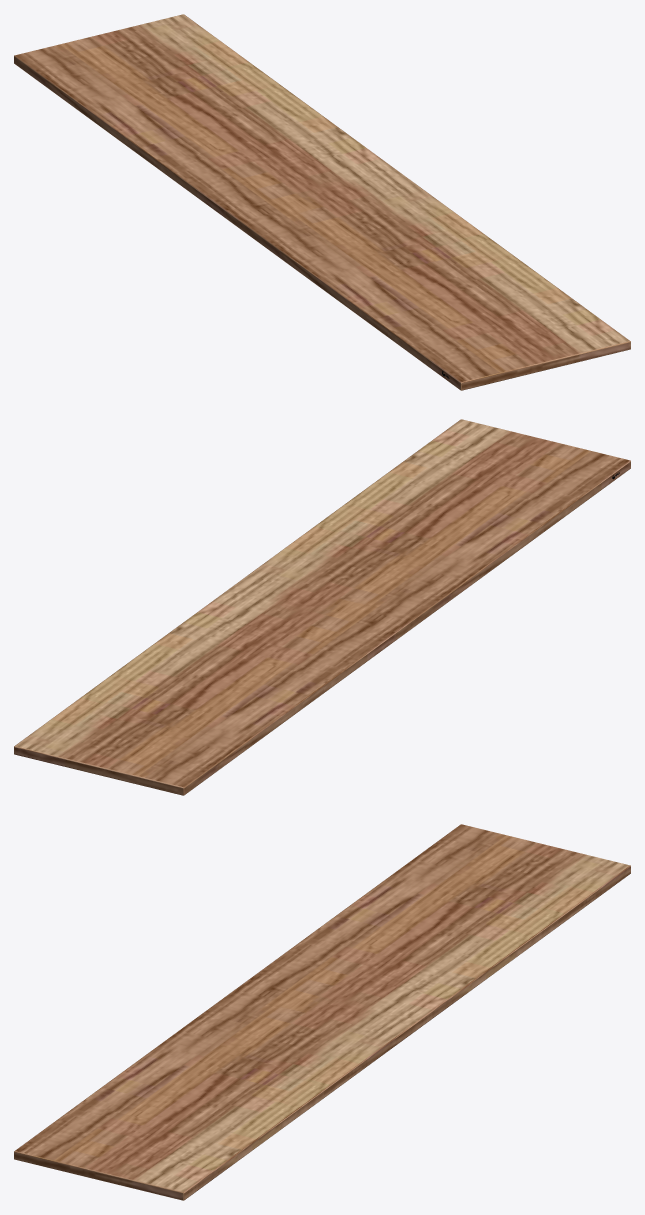
File: cABINET_COVER_PLATE_180_FINALA.fbx
The picture shows the model from 3 angles, top to bottom: view 1: azimuth 30°, elevation 25°; view 2: azimuth 150°, elevation 25°; view 3: azimuth 330°, elevation 25°; orthographic projection.
Visible parts, largest first — view 1: blat; view 2: blat; view 3: blat.
Part boxes in pixels (<box>): blat: <box>14,14,630,390</box>; blat: <box>14,419,630,795</box>; blat: <box>14,824,630,1200</box>.
Size of the model in its own units: 40.01 by 1.9 by 182.
